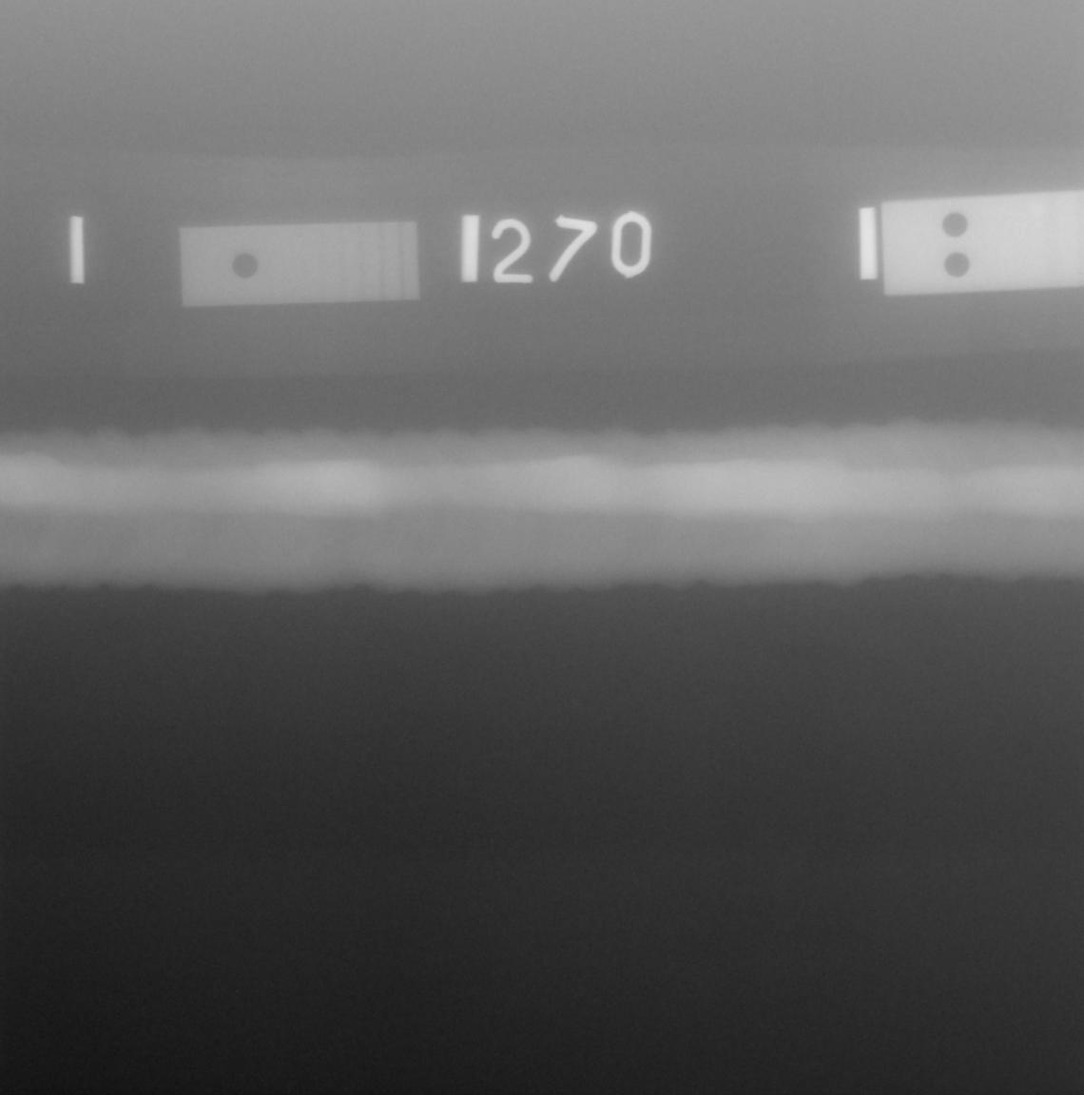Reference Standard 1: (179, 221, 419, 307)
